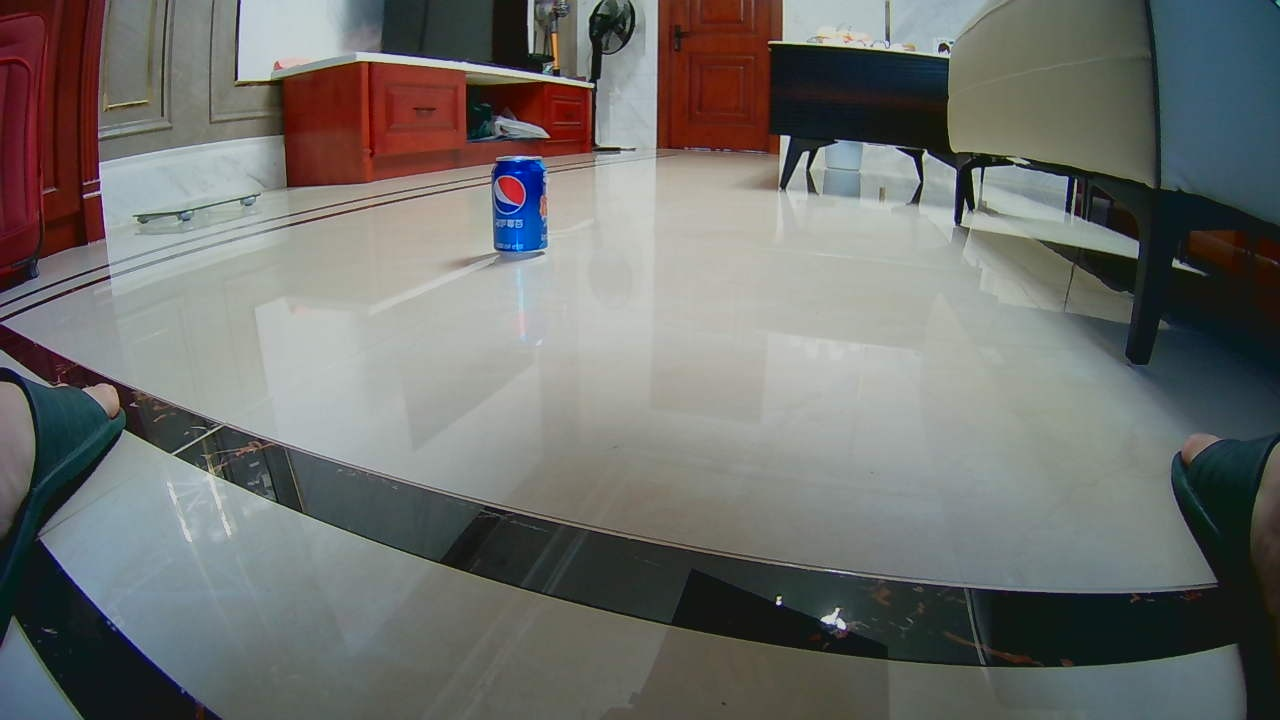pessi: (491, 165, 549, 256)
